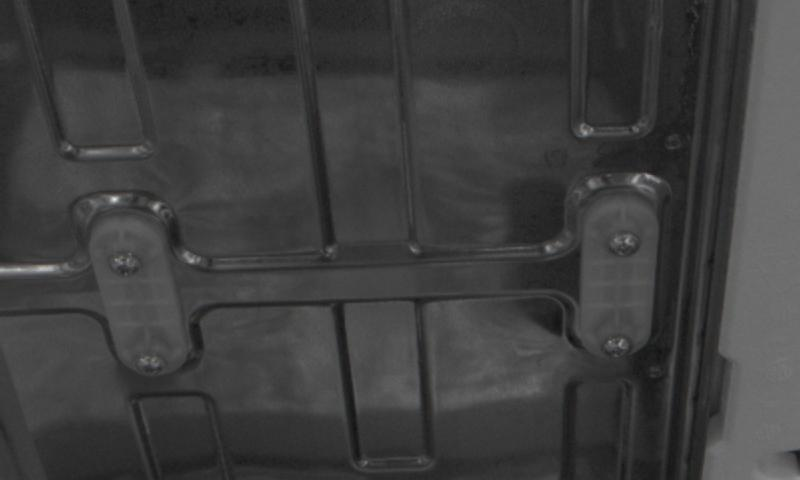vida-ok: (606, 222, 649, 267), (105, 246, 145, 291), (128, 346, 171, 386), (599, 334, 639, 373)
